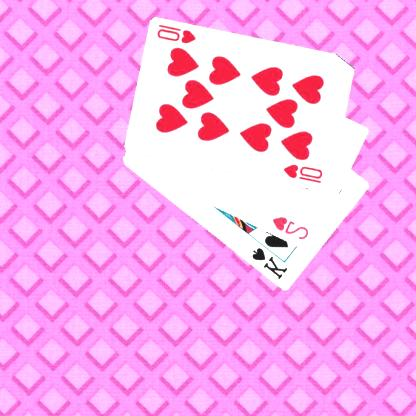10H: (283, 162, 326, 185), (156, 22, 199, 45)
2H: (271, 214, 312, 241)
KS: (250, 245, 290, 281)
